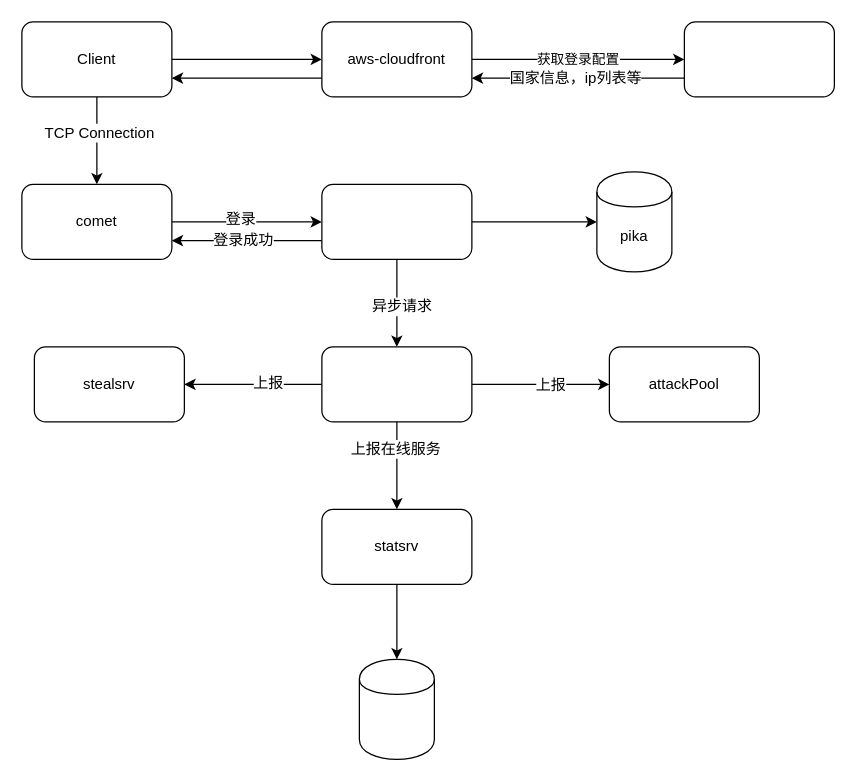
Image size: 856x781. Some labels were removed from this diagram. Each missing label, with the box of its shape:
game: (321, 346, 472, 422)
loginsrv: (321, 183, 472, 259)
mysql: (358, 658, 434, 759)
router: (683, 21, 834, 97)
